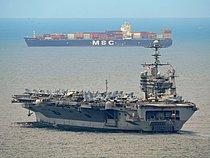MIL_Ship: (11, 49, 198, 134)
